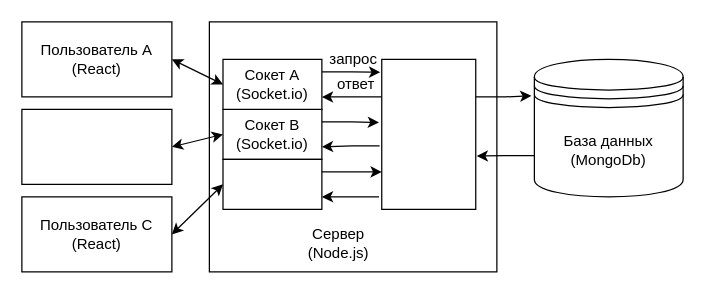
The diagram is 705 pixels wide and 294 high, and some of its shapes have lost their labels. The shapes that lost their labels are listed below. From the top down, each one's box as (x1, y1, x2, y2) in pixels, then its label:
(21, 108, 172, 184): Пользователь В (React)
(380, 58, 476, 209): API (Express.js)
(222, 158, 322, 209): Сокет C (Socket.io)
